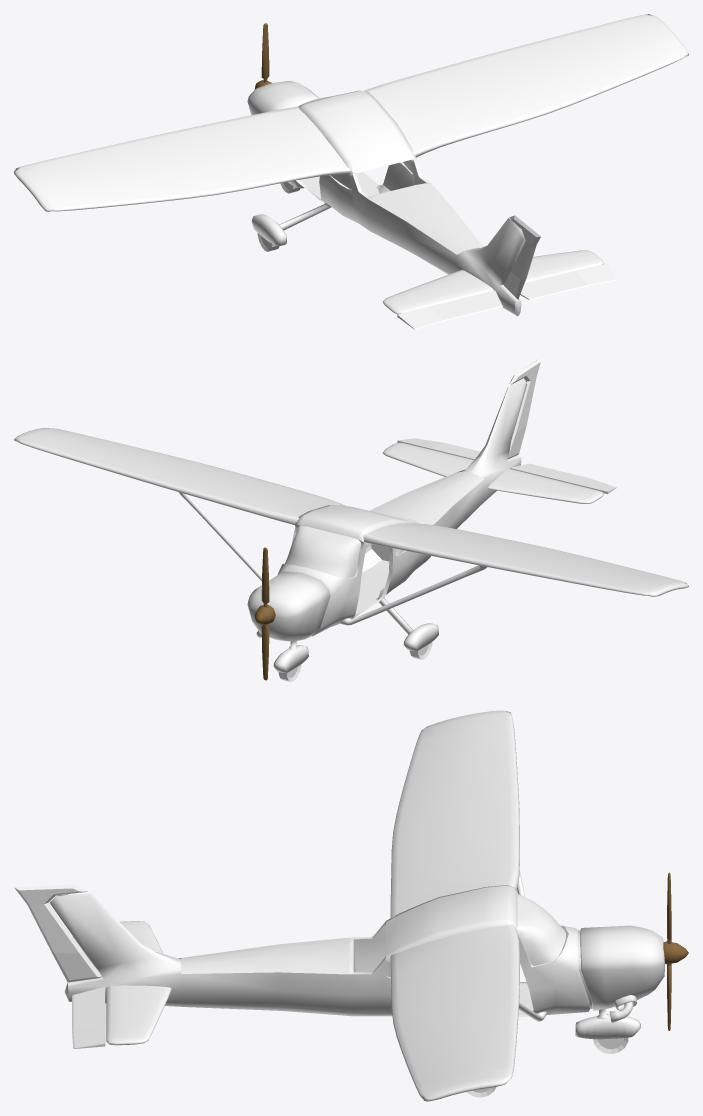
File: cessna.glb
The picture shows the model from 3 angles, top to bottom: view 1: azimuth 30°, elevation 25°; view 2: azimuth 150°, elevation 25°; view 3: azimuth 270°, elevation 25°; orthographic projection. The views are drawn at different scales.
Visible parts, largest first — view 1: Wings, Body, LeftFin, RightFin, TopFin, LandingGear, PropShaft; view 2: Wings, Body, Glass, LandingGear, WingSupport, TopFin, PropShaft, LeftFin, RightFin; view 3: Wings, Body, TopFin, Glass, RightFin, LandingGear, PropShaft.
Part boxes in pixels (x1,y1,x2,y2): Wings: (14,14,688,314); Body: (247,81,525,316); LeftFin: (397,291,502,329); RightFin: (520,263,616,300); TopFin: (504,215,540,299); LandingGear: (251,180,379,245); PropShaft: (254,23,271,89); Wings: (14,428,688,596); Body: (247,378,527,641); Glass: (285,525,404,578); LandingGear: (273,596,438,672); WingSupport: (178,492,487,625); TopFin: (508,358,540,458); PropShaft: (254,547,275,680); LeftFin: (510,463,616,494); RightFin: (397,438,480,459); Wings: (106,710,519,1101); Body: (49,885,664,1016); TopFin: (14,884,101,982); Glass: (387,894,566,977); RightFin: (72,987,105,1048); LandingGear: (575,1009,640,1039); PropShaft: (663,872,688,1030).
Size of the model in its own units: 19.74 by 4.39 by 15.04.
